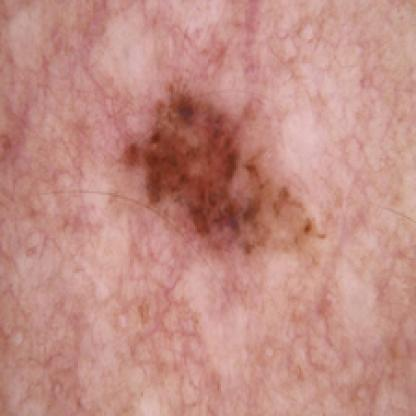Skin_Cancer-Malignant: (117, 82, 331, 258)
